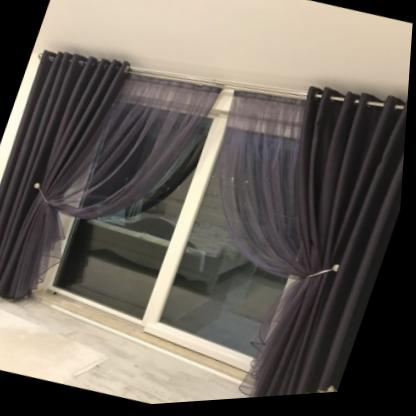Curtains: (256, 91, 409, 401), (0, 52, 131, 303)
